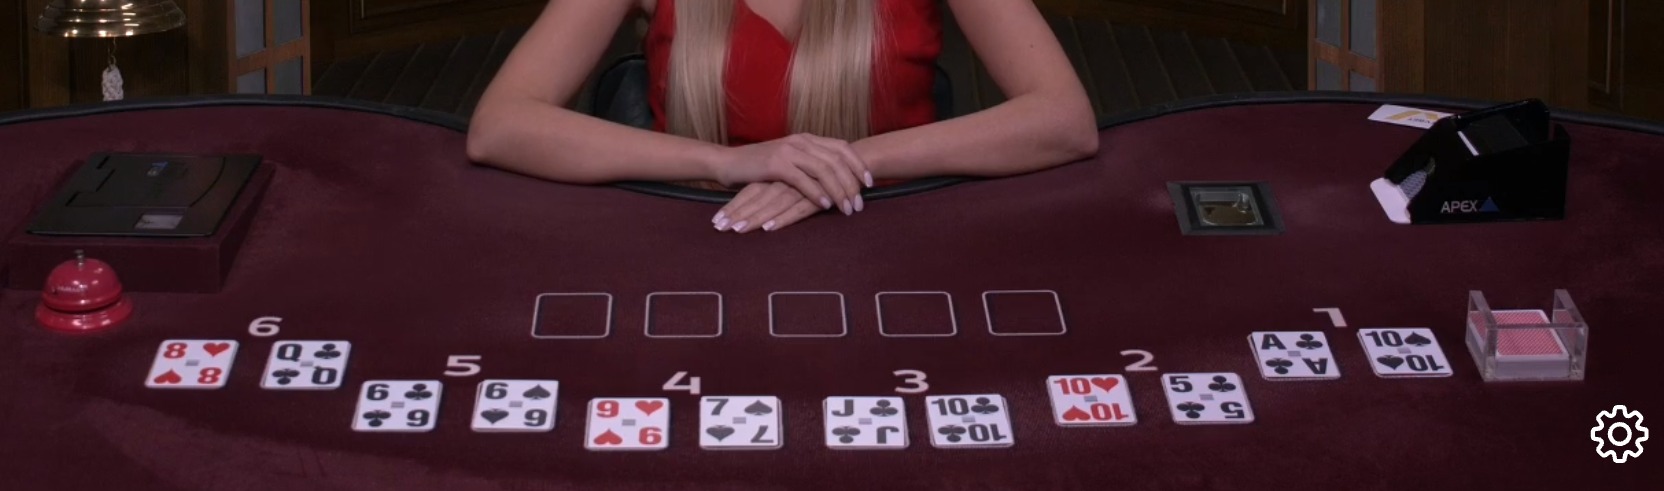10c: (920, 390, 1020, 454)
10h: (1041, 369, 1143, 429)
10s: (1358, 320, 1452, 378)
5c: (1157, 369, 1256, 427)
6c: (358, 378, 441, 432)
6s: (474, 372, 558, 441)
7s: (699, 389, 786, 456)
8h: (149, 335, 233, 394)
9h: (585, 391, 668, 454)
asc: (1254, 327, 1339, 381)
jc: (824, 388, 911, 458)
qc: (265, 334, 351, 392)
